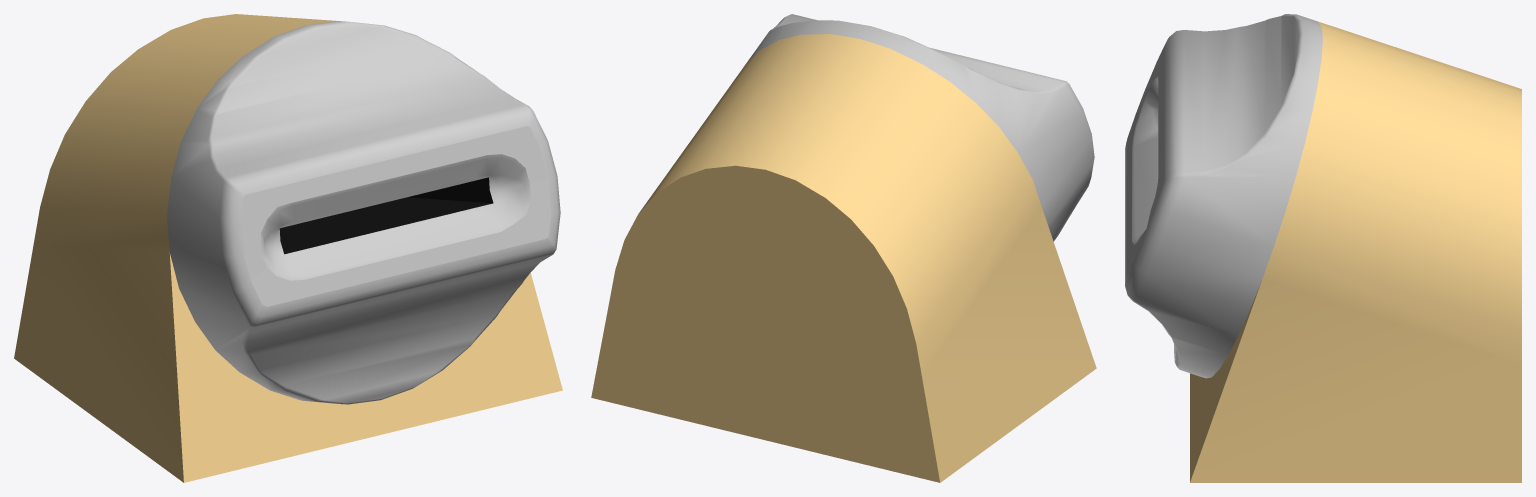
The model's file is token-slot.glb.
3 renders of one model, left to right at view 1: azimuth 30°, elevation 25°; view 2: azimuth 150°, elevation 25°; view 3: azimuth 270°, elevation 25°, orthographic. The views are drawn at different scales.
Visible parts, largest first — view 1: token-slot; view 2: token-slot; view 3: token-slot.
Boxes of the visible parts, left/top/right/bottom form: token-slot: left=14, top=14, right=562, bottom=482; token-slot: left=591, top=14, right=1096, bottom=482; token-slot: left=1125, top=14, right=1521, bottom=482.
Size of the model in its own units: 0.14 by 0.13 by 0.13.
